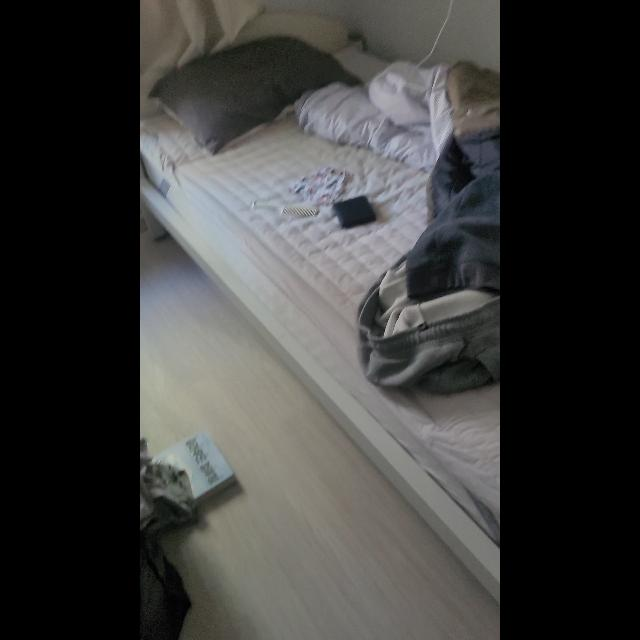COMB: (252, 202, 318, 218)
Glasses cleaning cloth: (290, 166, 348, 206)
WALLET: (332, 196, 376, 228)
